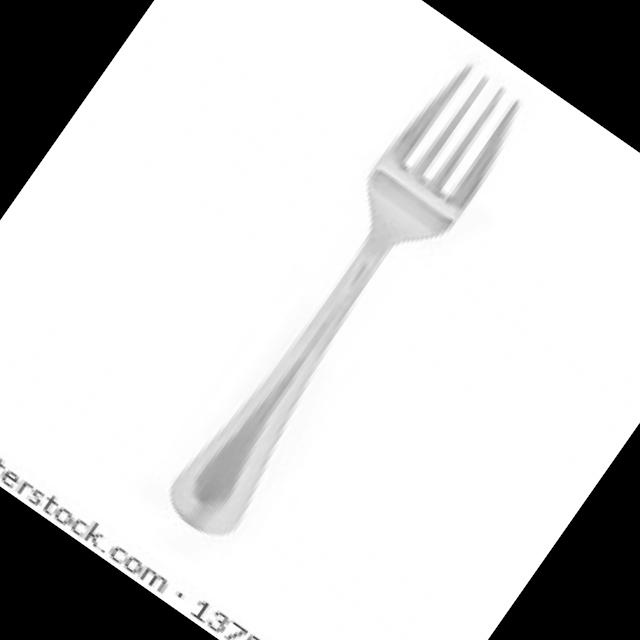fork: (142, 52, 536, 553)
